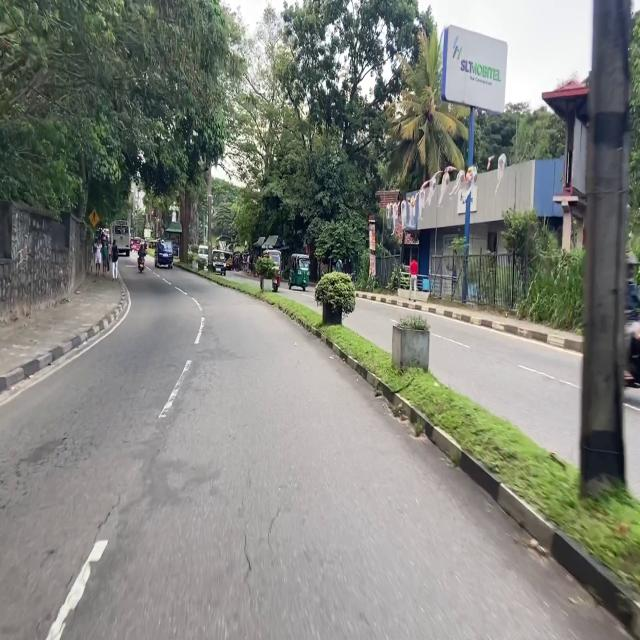bus: (110, 220, 130, 255), (216, 232, 234, 270)
car: (208, 249, 226, 276)
motorcycle: (139, 258, 144, 273)
person: (409, 257, 418, 299), (101, 240, 109, 276), (95, 237, 102, 276), (112, 239, 118, 280), (138, 243, 144, 257)
three wheeler: (263, 249, 281, 292), (289, 254, 309, 291)
van: (154, 238, 173, 268), (198, 245, 208, 264)
